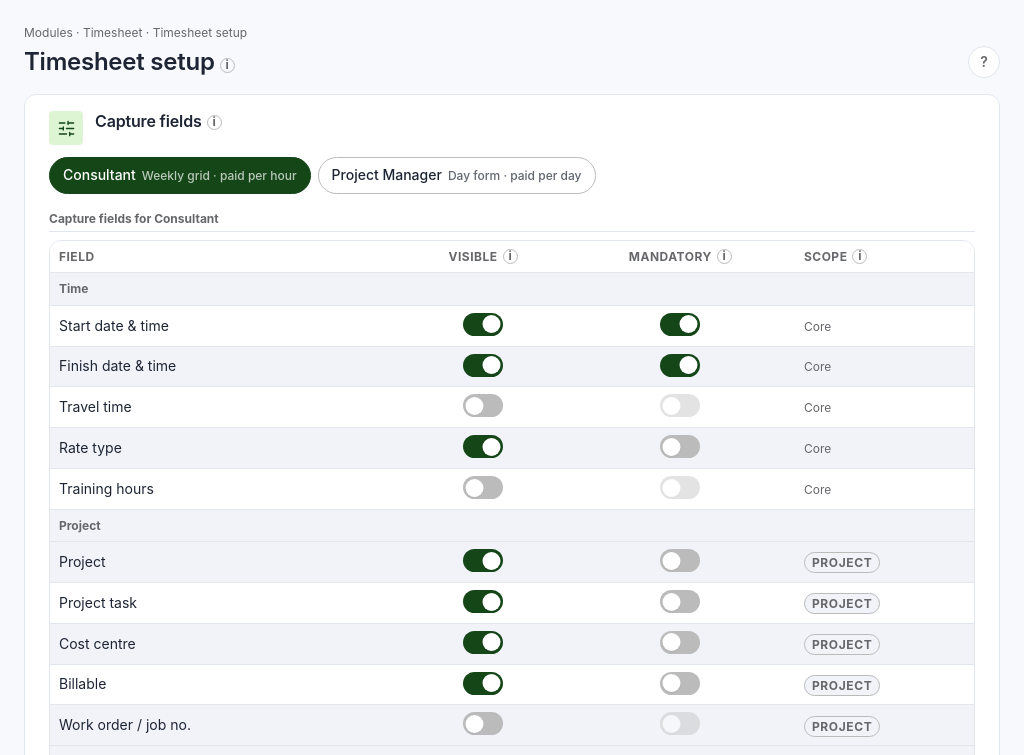
Test: the page guide states the rules that are always refused, overlapping breaks among them
This screenshot has width=1024, height=755.
Click the button "?".
click(984, 62)  # box [968,46,1000,78]
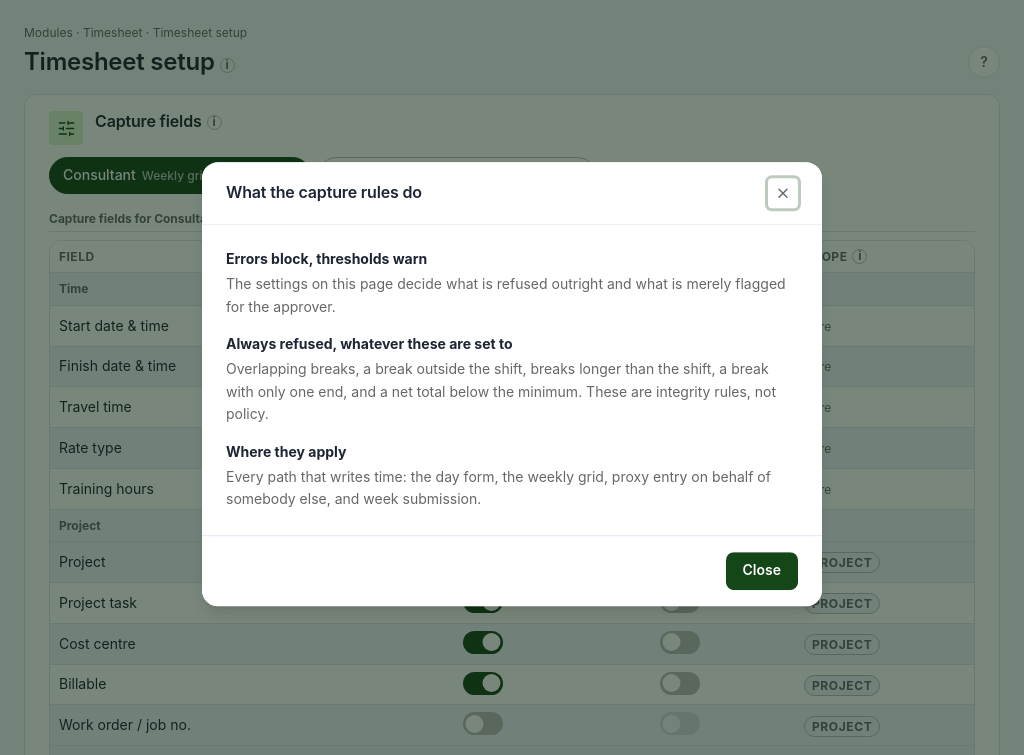
Check: the dialog shows "Always refused, whatever these are set to", box [226,335,512,352]
Check: the dialog shows "overlapping breaks", box [226,361,776,422]
